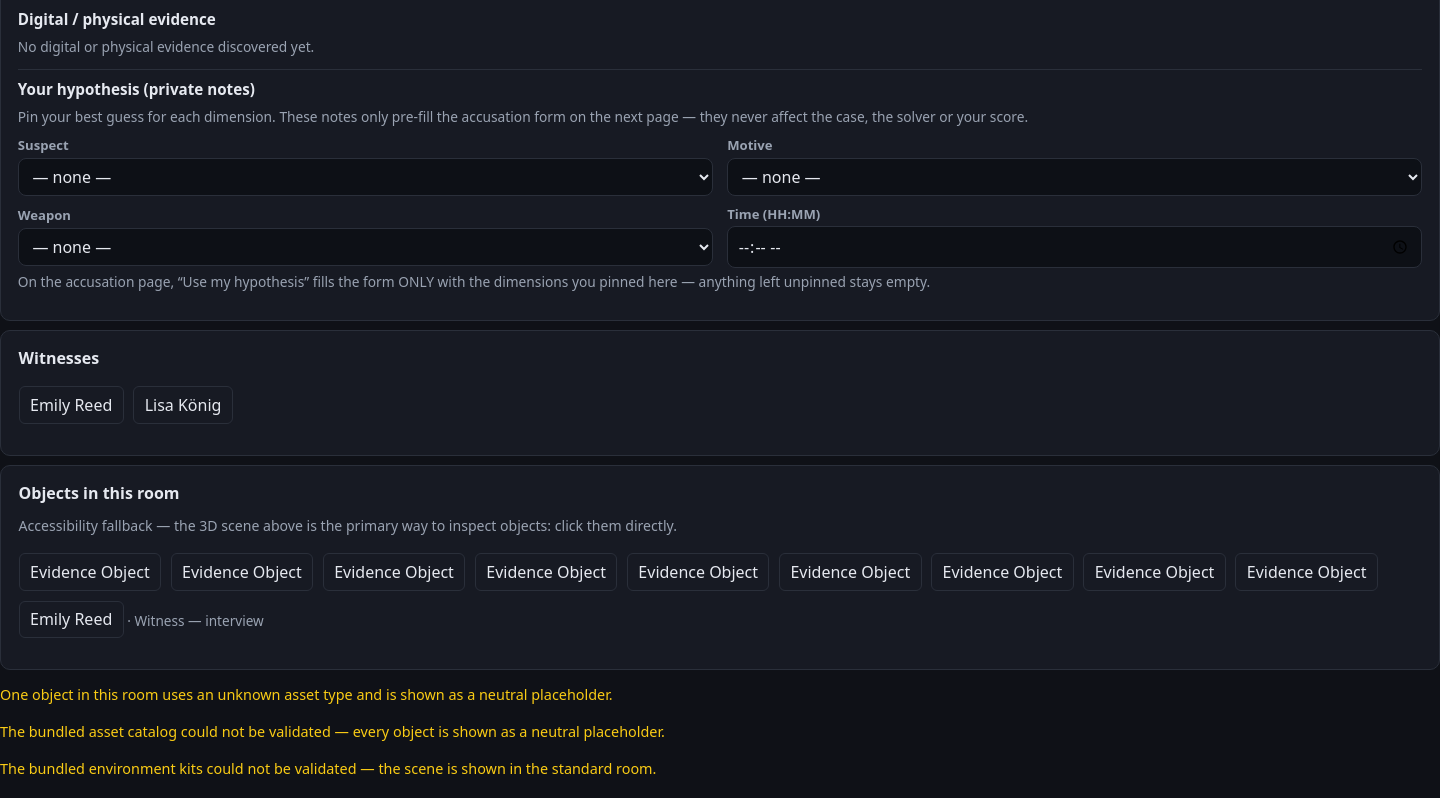
Test: Phase 23 — /scene witness visibility (ON_SCENE + REMOTE_STATEMENT) › REMOTE_STATEMENT: Lisa König has NO scene object (nothing next to the victim) but her Witnesses-section button opens the same panel
(page scrolled)
Click the button "Lisa König": (183, 405) [133,386,233,424]
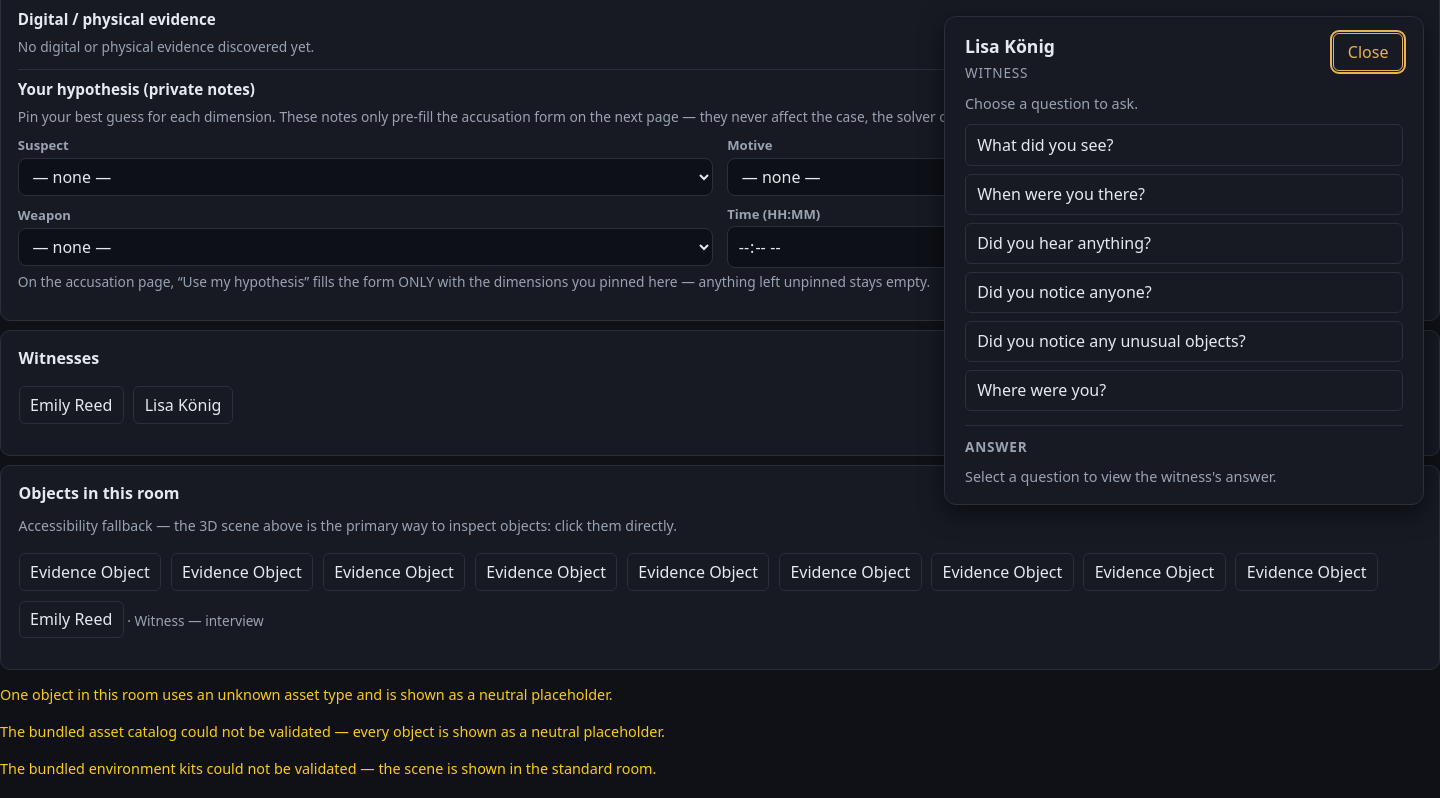
Now the dialog with test id "witness-panel" is shown, box [944,16,1424,505]
Now the heading with test id "witness-panel-name" reads "Lisa König", box [965,34,1055,58]
